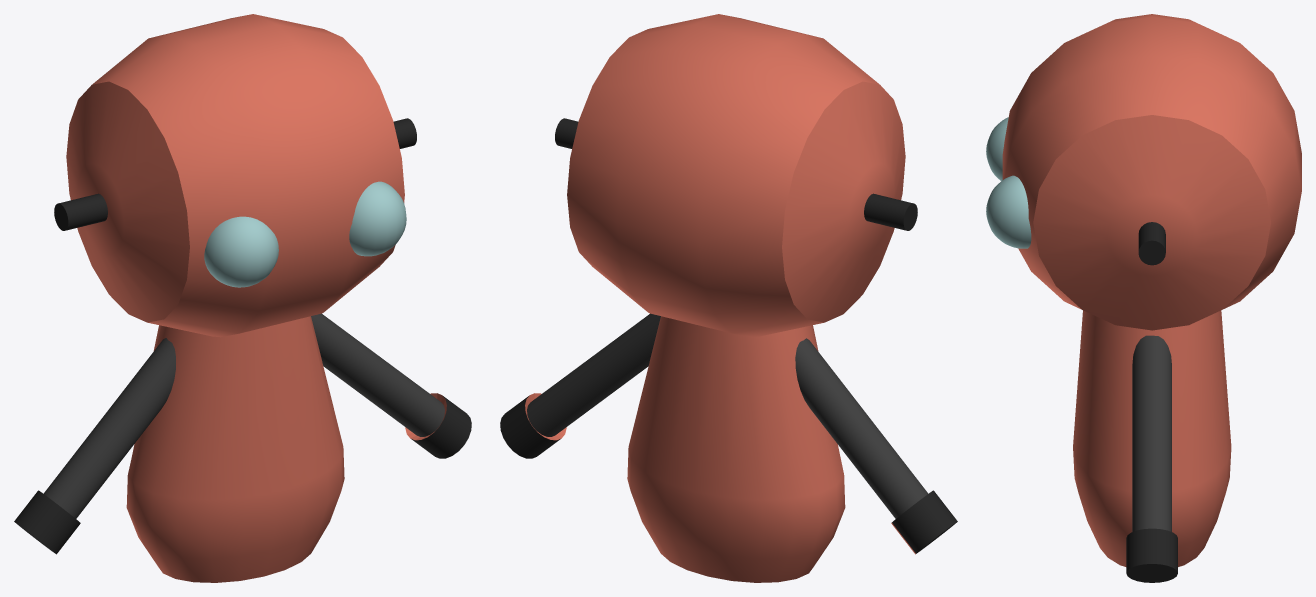
Rendered from redrobot.fbx.
3 views of the same model, side by side, from view 1: azimuth 30°, elevation 25°; view 2: azimuth 150°, elevation 25°; view 3: azimuth 270°, elevation 25° (orthographic). The views are drawn at different scales.
Visible parts, largest first — view 1: pCylinder1, pCylinder3, pCylinder4, pCylinder5, pSphere1, pSphere2, pCylinder2; view 2: pCylinder1, pCylinder3, pCylinder4, pCylinder5, pCylinder2; view 3: pCylinder1, pCylinder3, pCylinder5, pSphere2, pCylinder2, pSphere1.
Part boxes in pixels (left/top/right/bottom): pCylinder1: left=66, top=14, right=404, bottom=337; pCylinder3: left=126, top=316, right=344, bottom=582; pCylinder4: left=14, top=338, right=175, bottom=554; pCylinder5: left=311, top=313, right=471, bottom=458; pSphere1: left=204, top=216, right=278, bottom=287; pSphere2: left=349, top=181, right=406, bottom=256; pCylinder2: left=54, top=118, right=416, bottom=230; pCylinder1: left=567, top=14, right=905, bottom=337; pCylinder3: left=627, top=316, right=845, bottom=582; pCylinder4: left=795, top=338, right=957, bottom=554; pCylinder5: left=500, top=313, right=660, bottom=458; pCylinder2: left=555, top=118, right=917, bottom=230; pCylinder1: left=1002, top=14, right=1301, bottom=330; pCylinder3: left=1073, top=310, right=1231, bottom=566; pCylinder5: left=1126, top=335, right=1177, bottom=582; pSphere2: left=986, top=175, right=1031, bottom=248; pCylinder2: left=1138, top=222, right=1165, bottom=265; pSphere1: left=986, top=117, right=1008, bottom=180.
Bounding box in the file's own units: 3.33 × 3.79 × 2.11.
